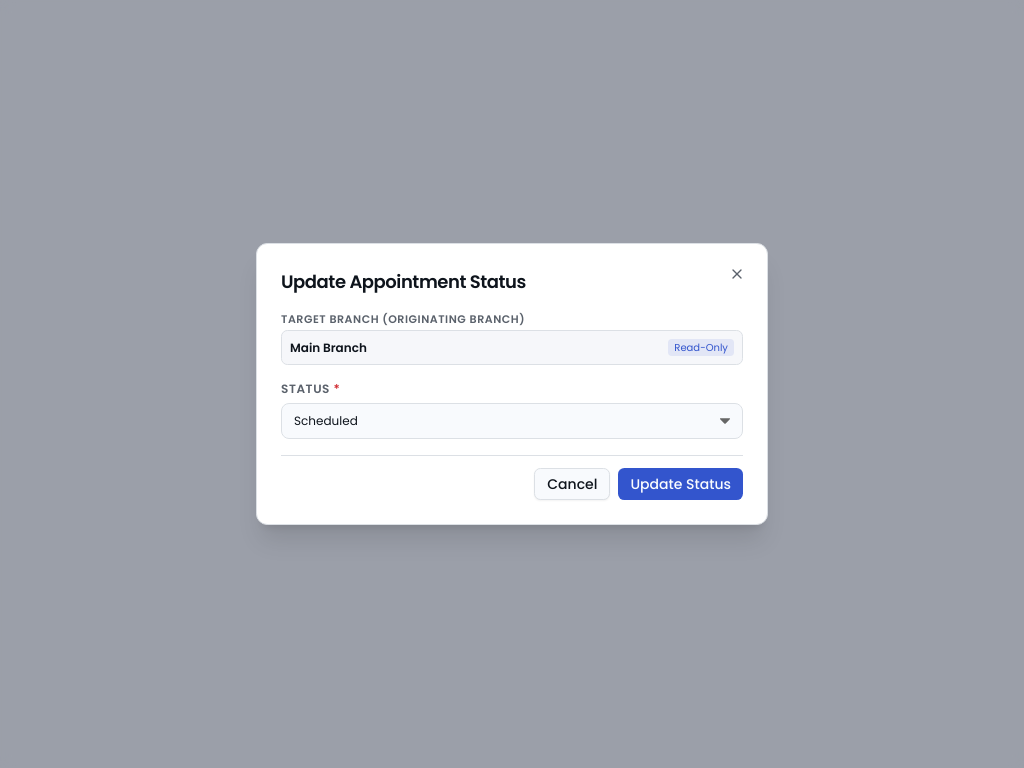
Test: Appointment Late-Completion & Conflict Handling › STAFF_OVERDUE_APPOINTMENT 409 Conflict Handling › displays accessible conflict notice with overdue details on HTTP 409
The image size is (1024, 768).
Select "In Progress" in the dropdown named "status" at (512, 422), box [281,404,743,440]
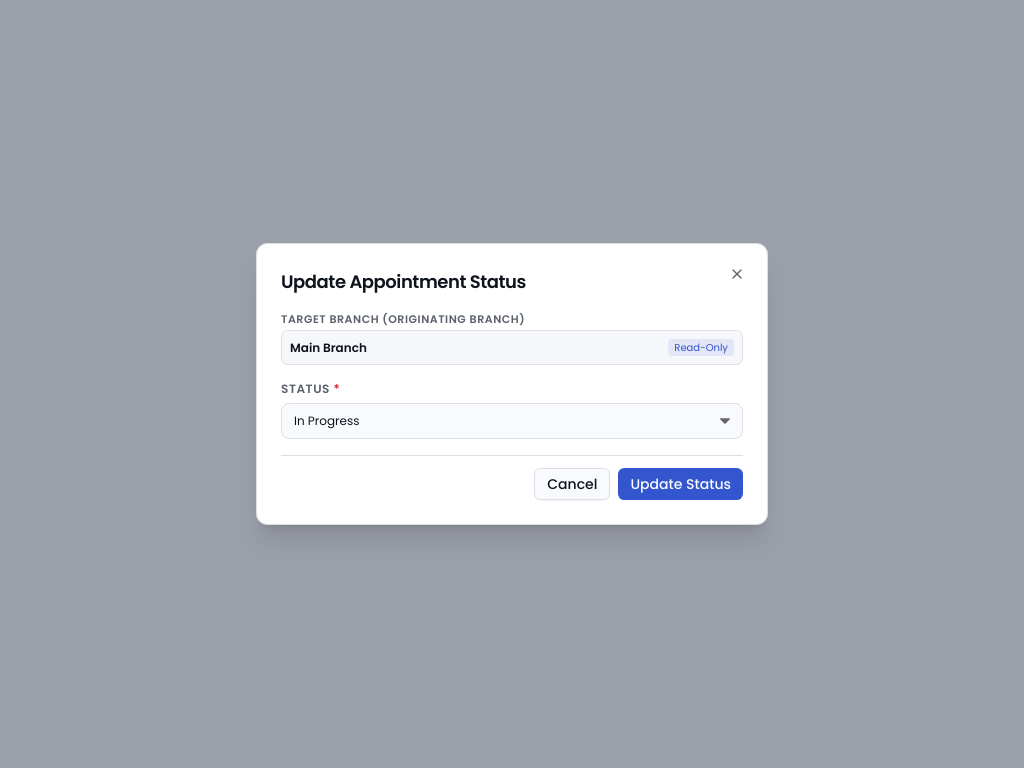
Click the button "Update Status".
click(681, 484)  # box [618,468,743,500]
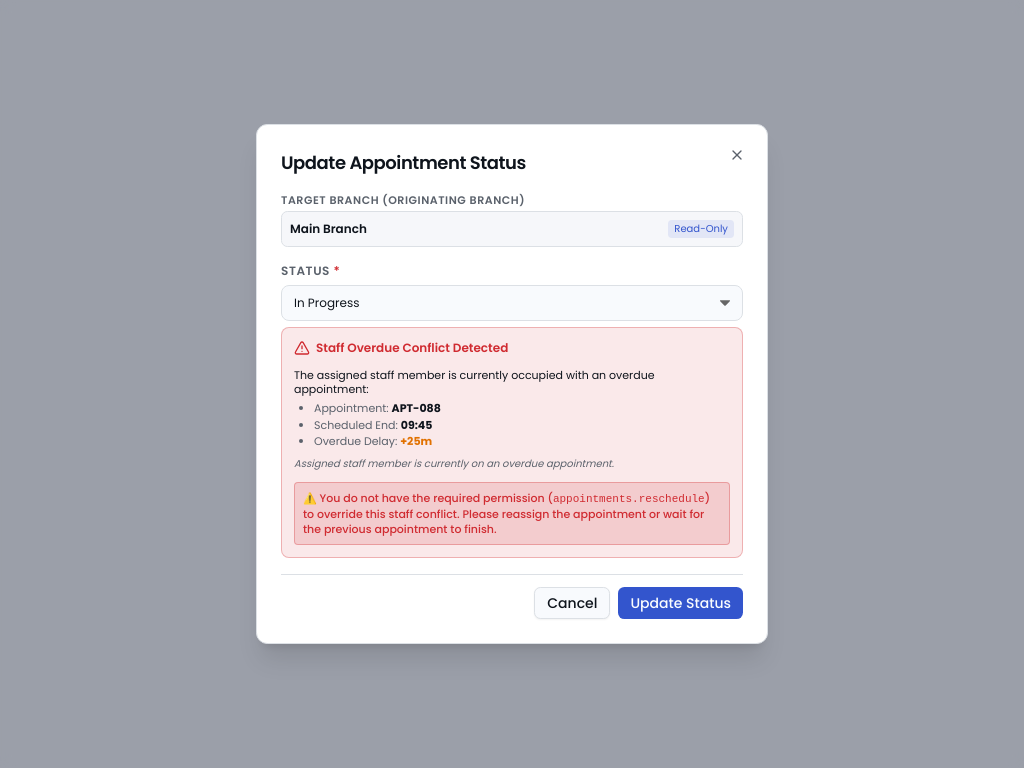
Expected: the message is shown, [281,327,743,558]
Expected: the text "Staff Overdue Conflict Detected" is shown, [316,340,508,356]
Expected: the text "APT-088" is shown, [392,400,441,416]
